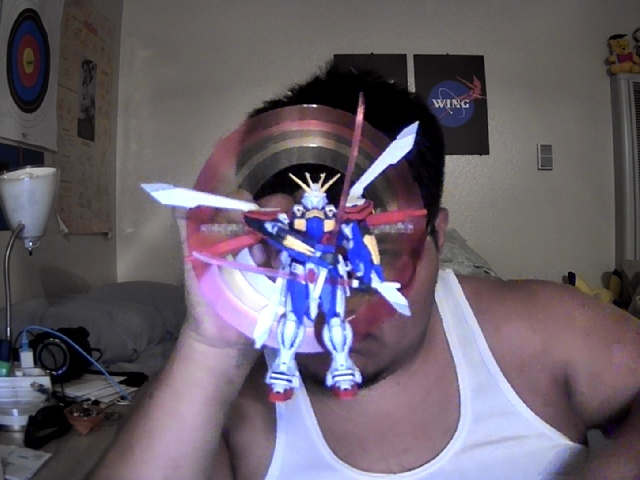God: (137, 94, 432, 407)
